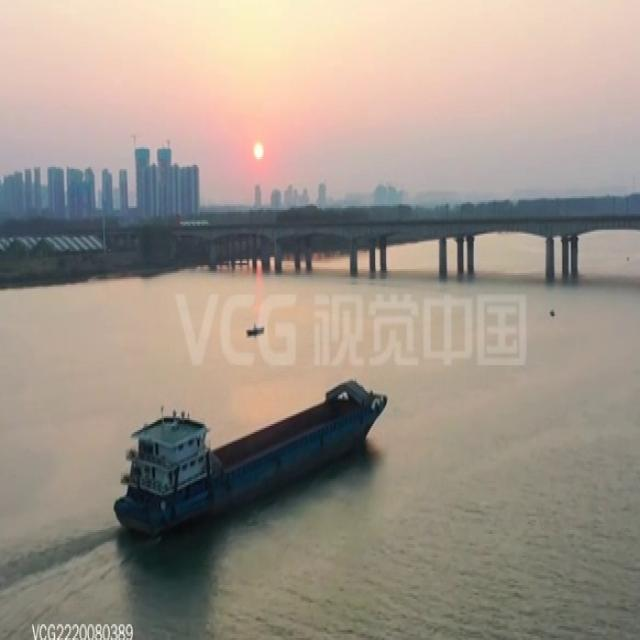cargoship: (131, 360, 376, 538)
